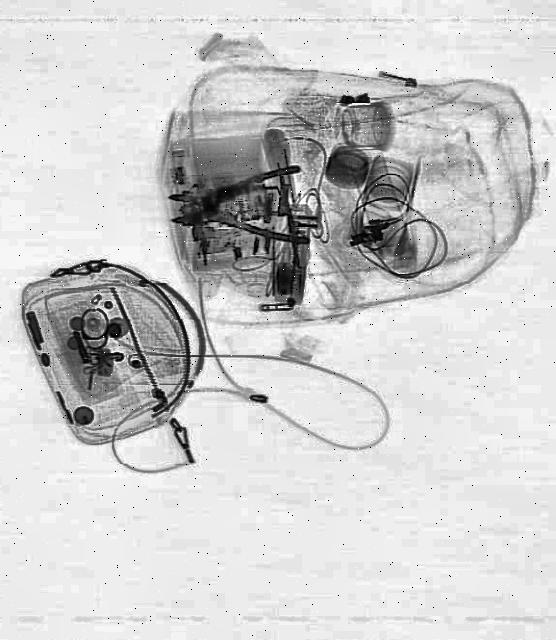Pliers: (169, 162, 313, 250)
